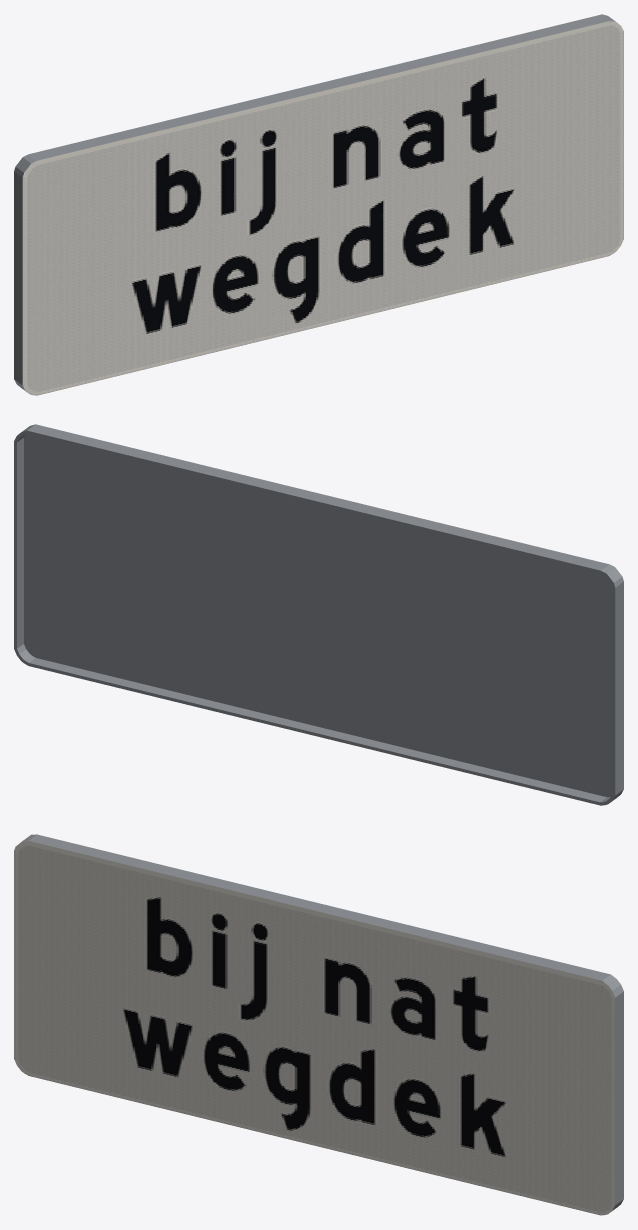
3 renders of one model, top to bottom at view 1: azimuth 30°, elevation 25°; view 2: azimuth 150°, elevation 25°; view 3: azimuth 330°, elevation 25°, orthographic.
Parts seen in each view (by area): view 1: cat_13ea5dd4f2916b94; view 2: cat_13ea5dd4f2916b94; view 3: cat_13ea5dd4f2916b94.
Boxes of the visible parts, box(x1,y1,x2,y2) form: cat_13ea5dd4f2916b94: box(14, 14, 623, 395); cat_13ea5dd4f2916b94: box(14, 424, 623, 805); cat_13ea5dd4f2916b94: box(14, 834, 623, 1215).
Size of the model in its own units: 0.6 by 0.015 by 0.2241.
Materials: 2 (1 with a texture image).
